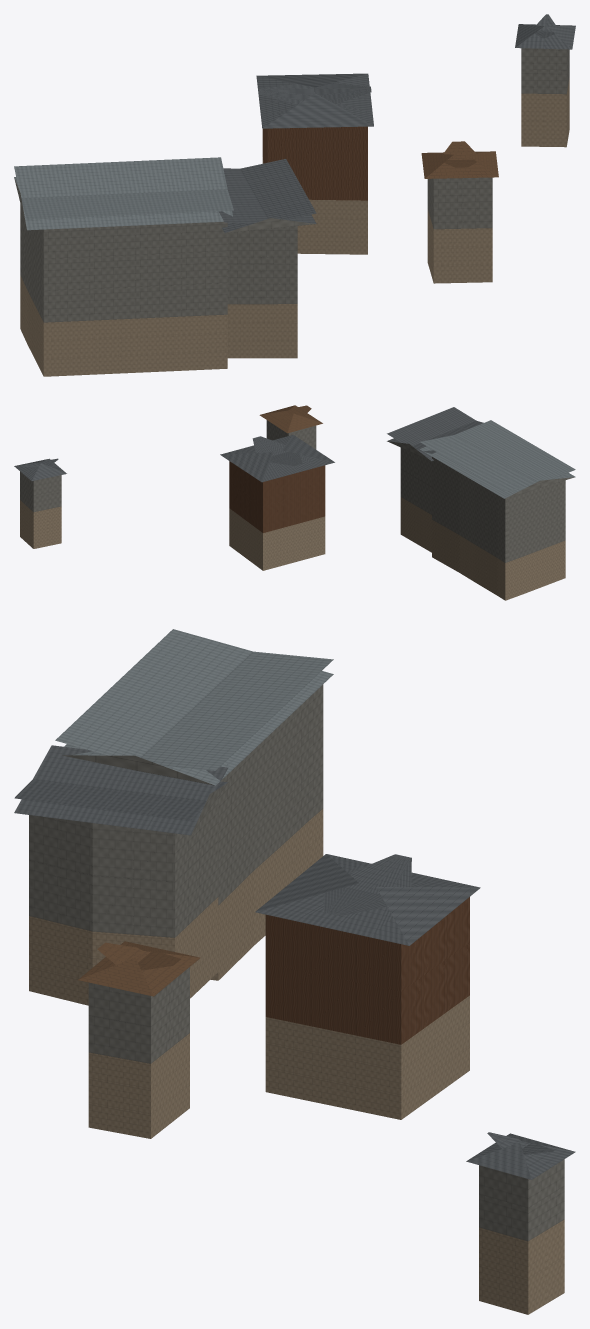
File: bld_c41_-47_460.gltf
3 renders of one model, top to bottom at view 1: azimuth 30°, elevation 25°; view 2: azimuth 150°, elevation 25°; view 3: azimuth 270°, elevation 25°, orthographic. The views are drawn at different scales.
Visible parts, largest first — view 1: bld_c41_-47_460; view 2: bld_c41_-47_460; view 3: bld_c41_-47_460.
Boxes of the visible parts, x1=… form: bld_c41_-47_460: x1=14, y1=14, x2=575, y2=376; bld_c41_-47_460: x1=14, y1=405, x2=575, y2=600; bld_c41_-47_460: x1=14, y1=629, x2=575, y2=1314.
Bounding box in the file's own units: 66.84 × 15.7 × 34.54.
7 materials, 7 textured.
